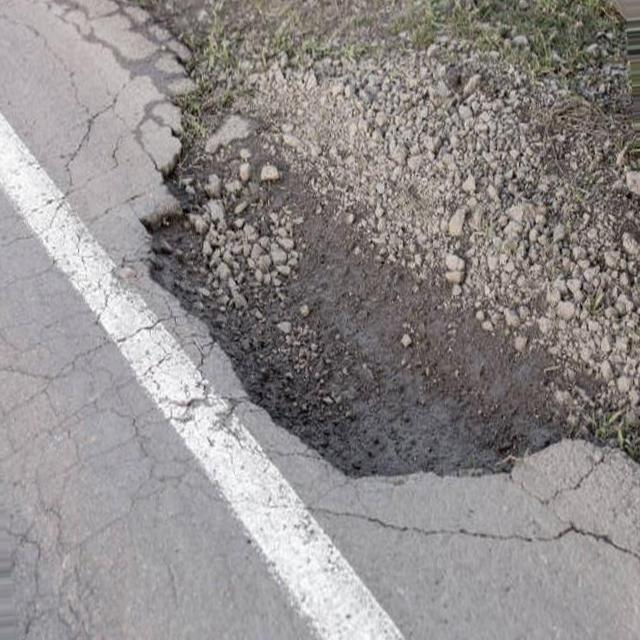Pinggir: (141, 65, 612, 488)
